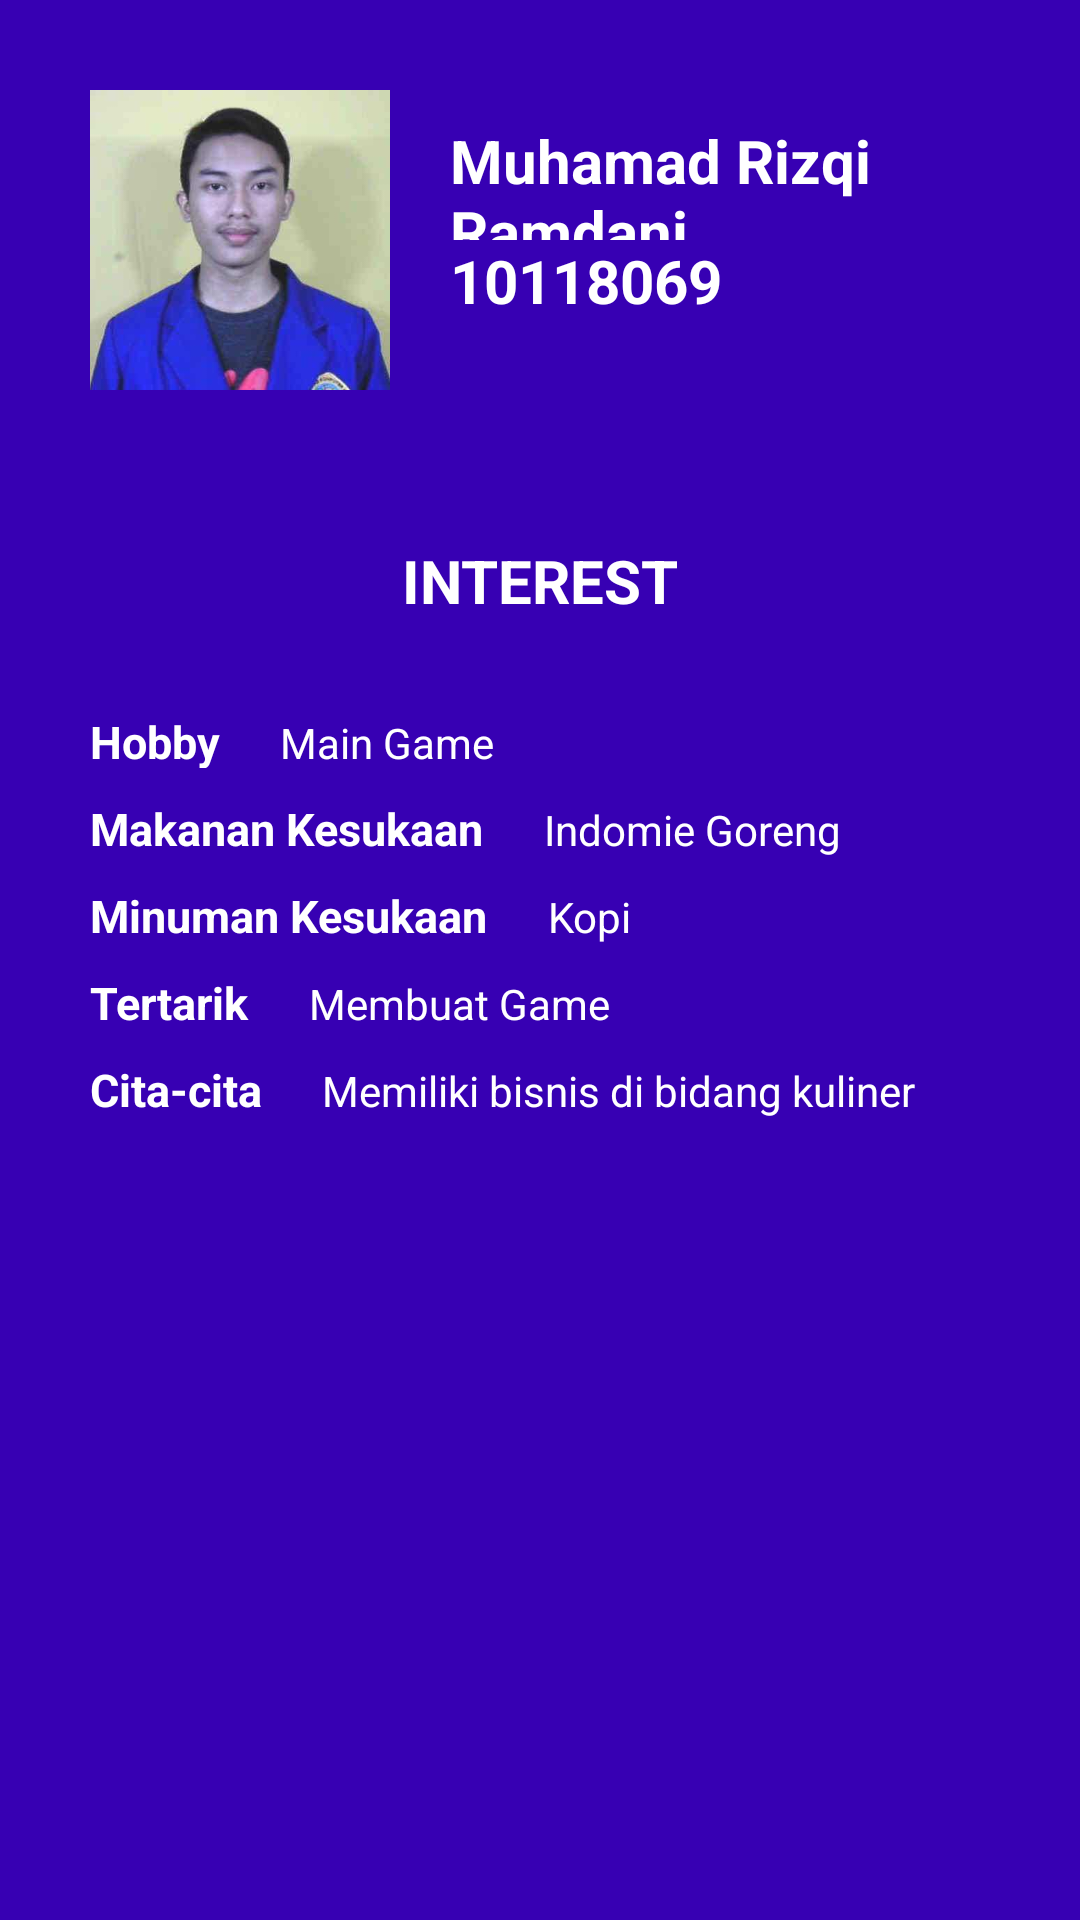

Screen size 1080 x 1920. Icon name, then its center in pixels as (x,y):
photo diri: (240,240)
